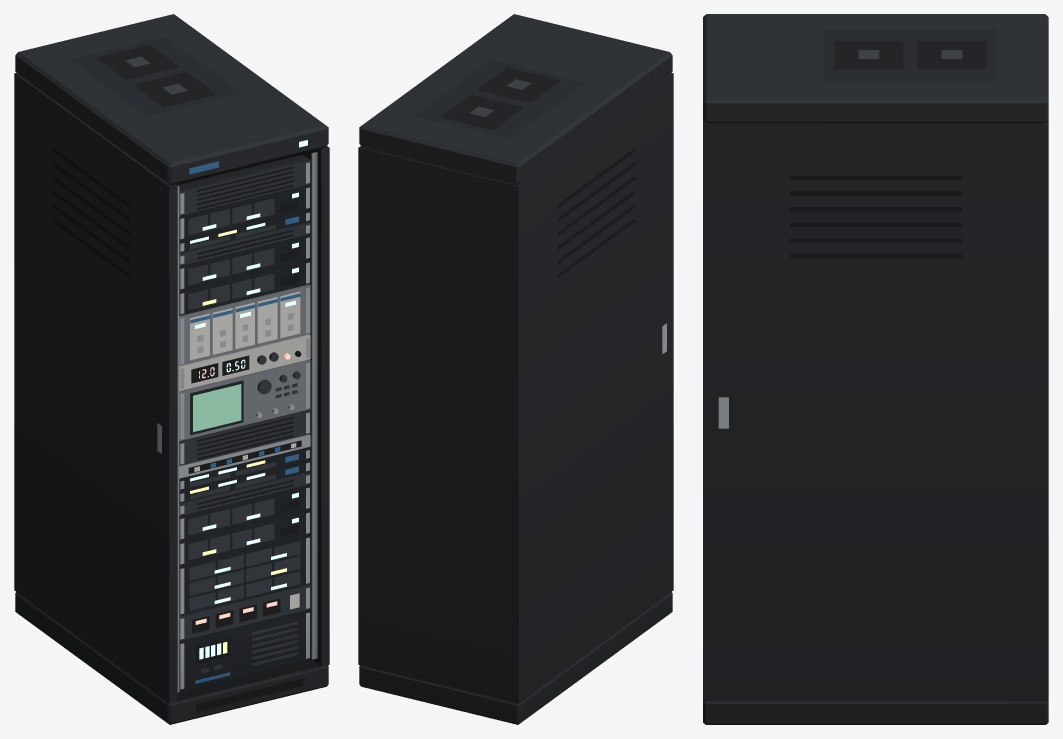
File: serverRack.glb
The picture shows the model from 3 angles, left to right: view 1: azimuth 30°, elevation 25°; view 2: azimuth 150°, elevation 25°; view 3: azimuth 270°, elevation 25°; orthographic projection. The views are drawn at different scales.
Parts seen in each view (by area): view 1: serverRack; view 2: serverRack; view 3: serverRack.
Part boxes in pixels (x1=…): serverRack: x1=14, y1=14, x2=329, y2=724; serverRack: x1=358, y1=14, x2=673, y2=724; serverRack: x1=703, y1=14, x2=1048, y2=724.
Size of the model in its own units: 0.6 by 2 by 1.
